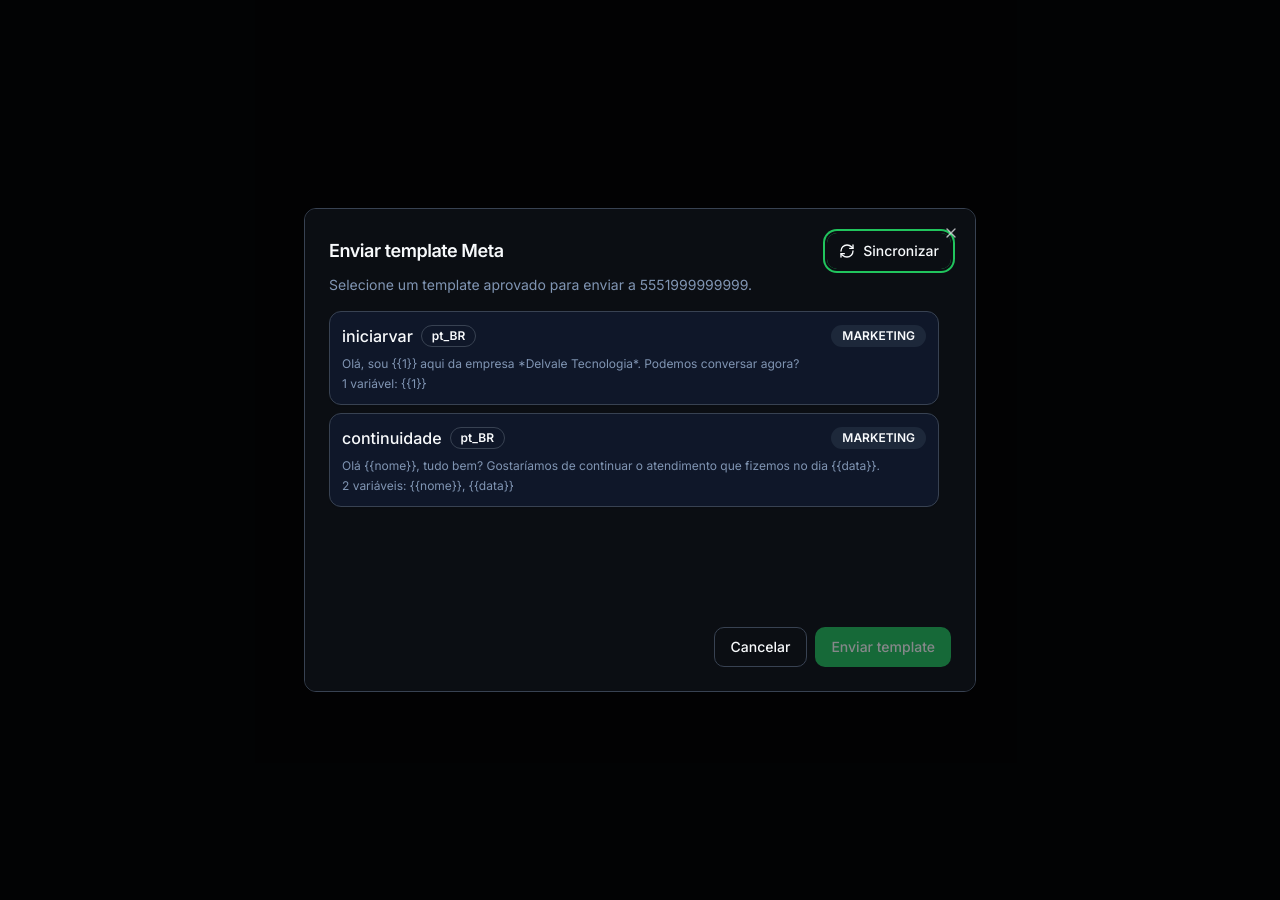
Scenario: MetaTemplatePicker · pré-preenchimento (DEM-0350) › trocar de template recalcula o preenchimento
The image size is (1280, 900).
Click the text "iniciarvar" at [377, 336], box [342,324,413,348]
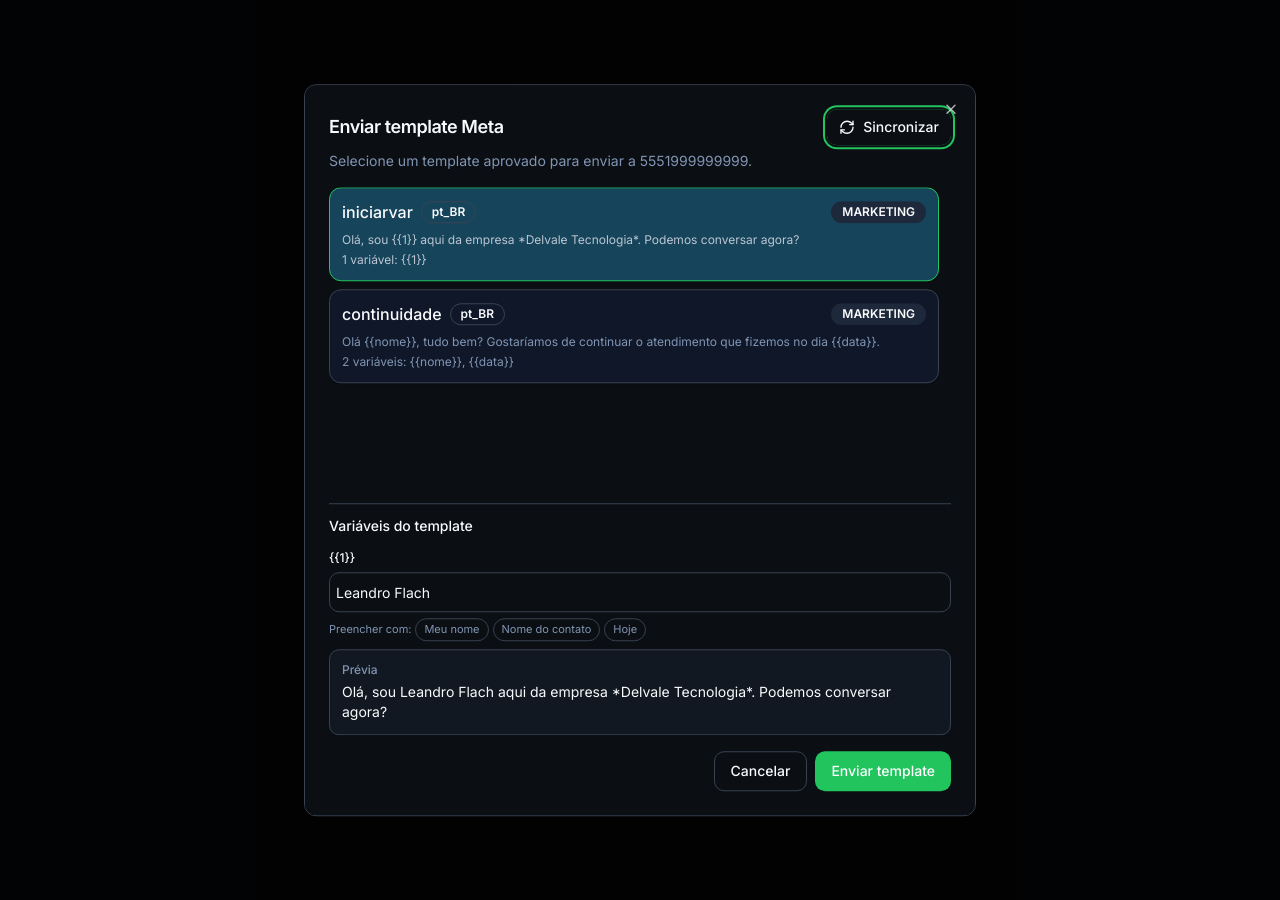
Result: the field holds "Leandro Flach" at [329,572,951,612]
Click the text "continuidade" at [392, 314], box [342,302,442,326]
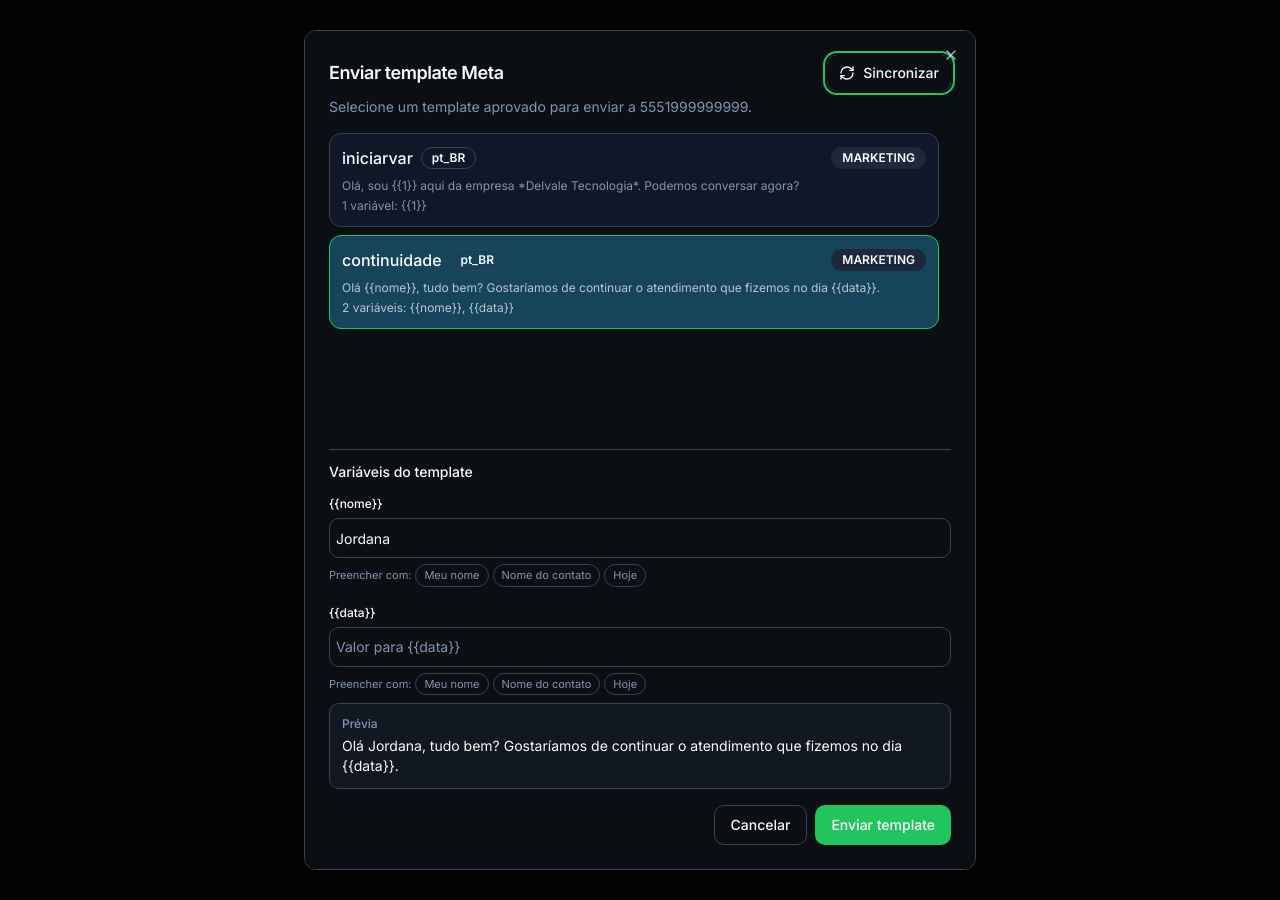
Result: the 1st field holds "Jordana" at [329,518,951,558]
